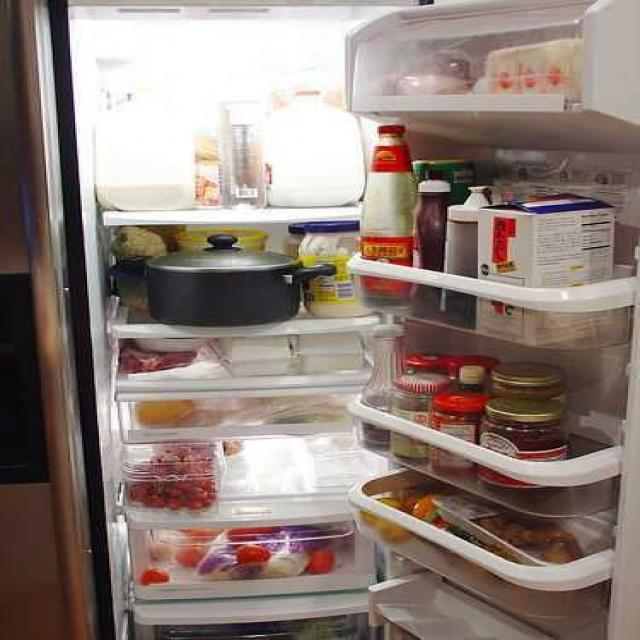refrigerator: (64, 0, 632, 631)
